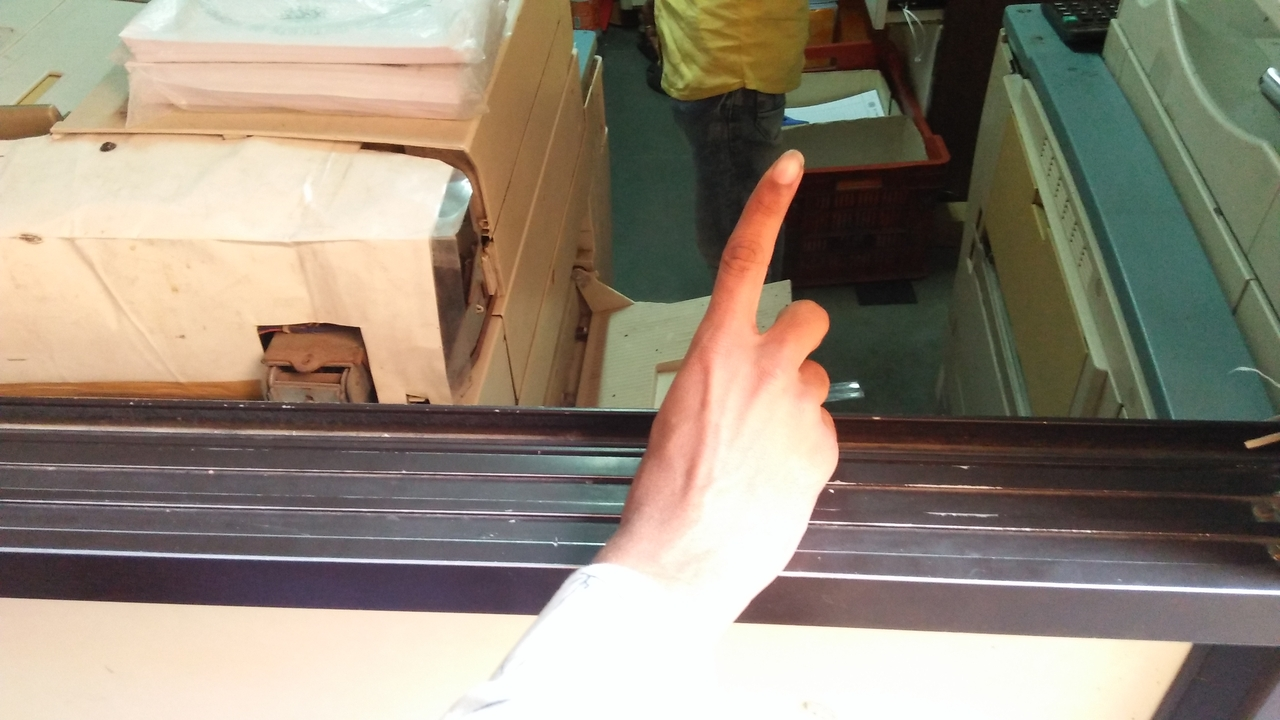fingertip: (754, 138, 814, 194)
